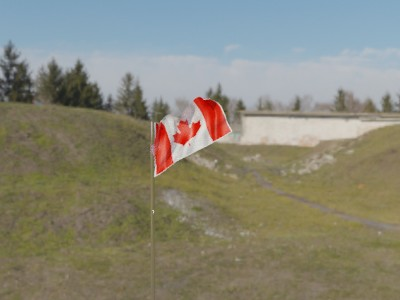Canada flag: (148, 94, 239, 176)
